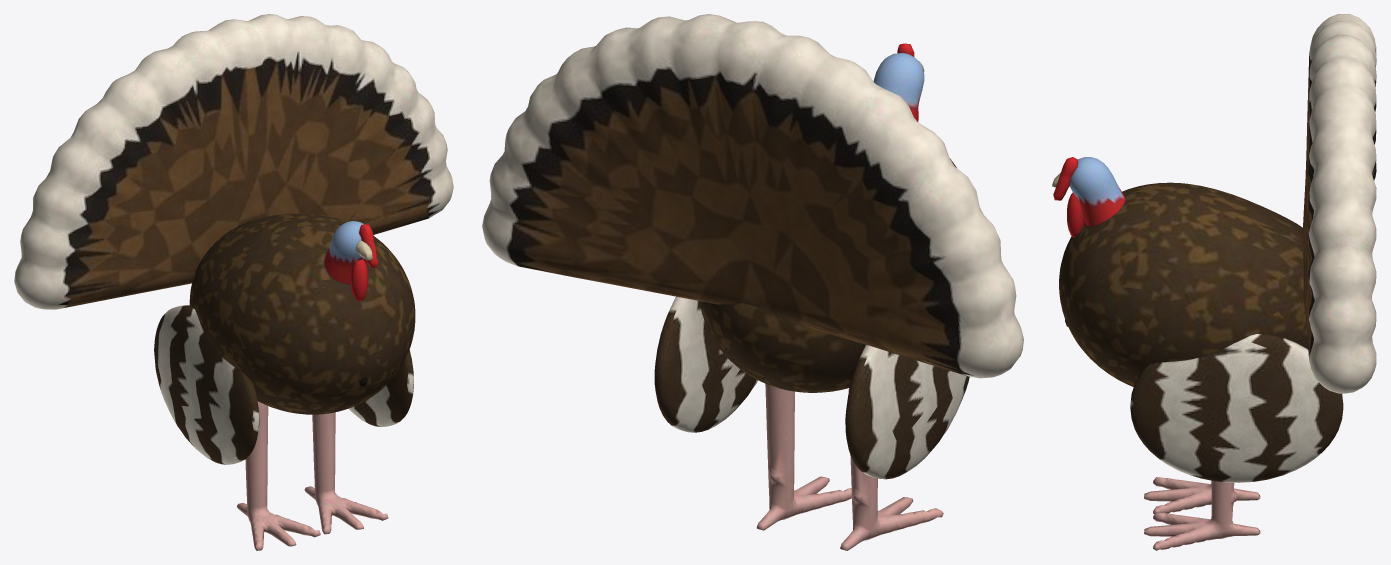
File: animal_gobbler.glb
3 views of the same model, side by side, from view 1: azimuth 30°, elevation 25°; view 2: azimuth 150°, elevation 25°; view 3: azimuth 270°, elevation 25° (orthographic). The views are drawn at different scales.
Visible parts, largest first — view 1: animal_gobbler, leg1, leg0, head; view 2: animal_gobbler, leg1, leg0, head; view 3: animal_gobbler, head, leg1, leg0.
Part boxes in pixels (x1=…): animal_gobbler: x1=14, y1=14, x2=453, y2=464; leg1: x1=304, y1=412, x2=388, y2=534; leg0: x1=237, y1=401, x2=320, y2=550; head: x1=324, y1=221, x2=378, y2=301; animal_gobbler: x1=482, y1=14, x2=1023, y2=479; leg1: x1=756, y1=384, x2=851, y2=530; leg0: x1=840, y1=388, x2=943, y2=550; head: x1=873, y1=43, x2=924, y2=121; animal_gobbler: x1=1059, y1=14, x2=1376, y2=482; head: x1=1052, y1=157, x2=1125, y2=237; leg1: x1=1144, y1=481, x2=1260, y2=550; leg0: x1=1144, y1=477, x2=1260, y2=514.
Size of the model in its own units: 0.446 by 0.446 by 0.2724.
1 material, 1 textured.
